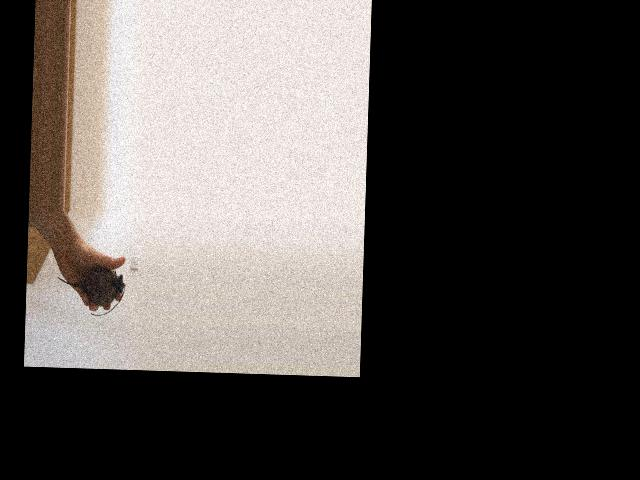beet: (56, 267, 125, 317)
